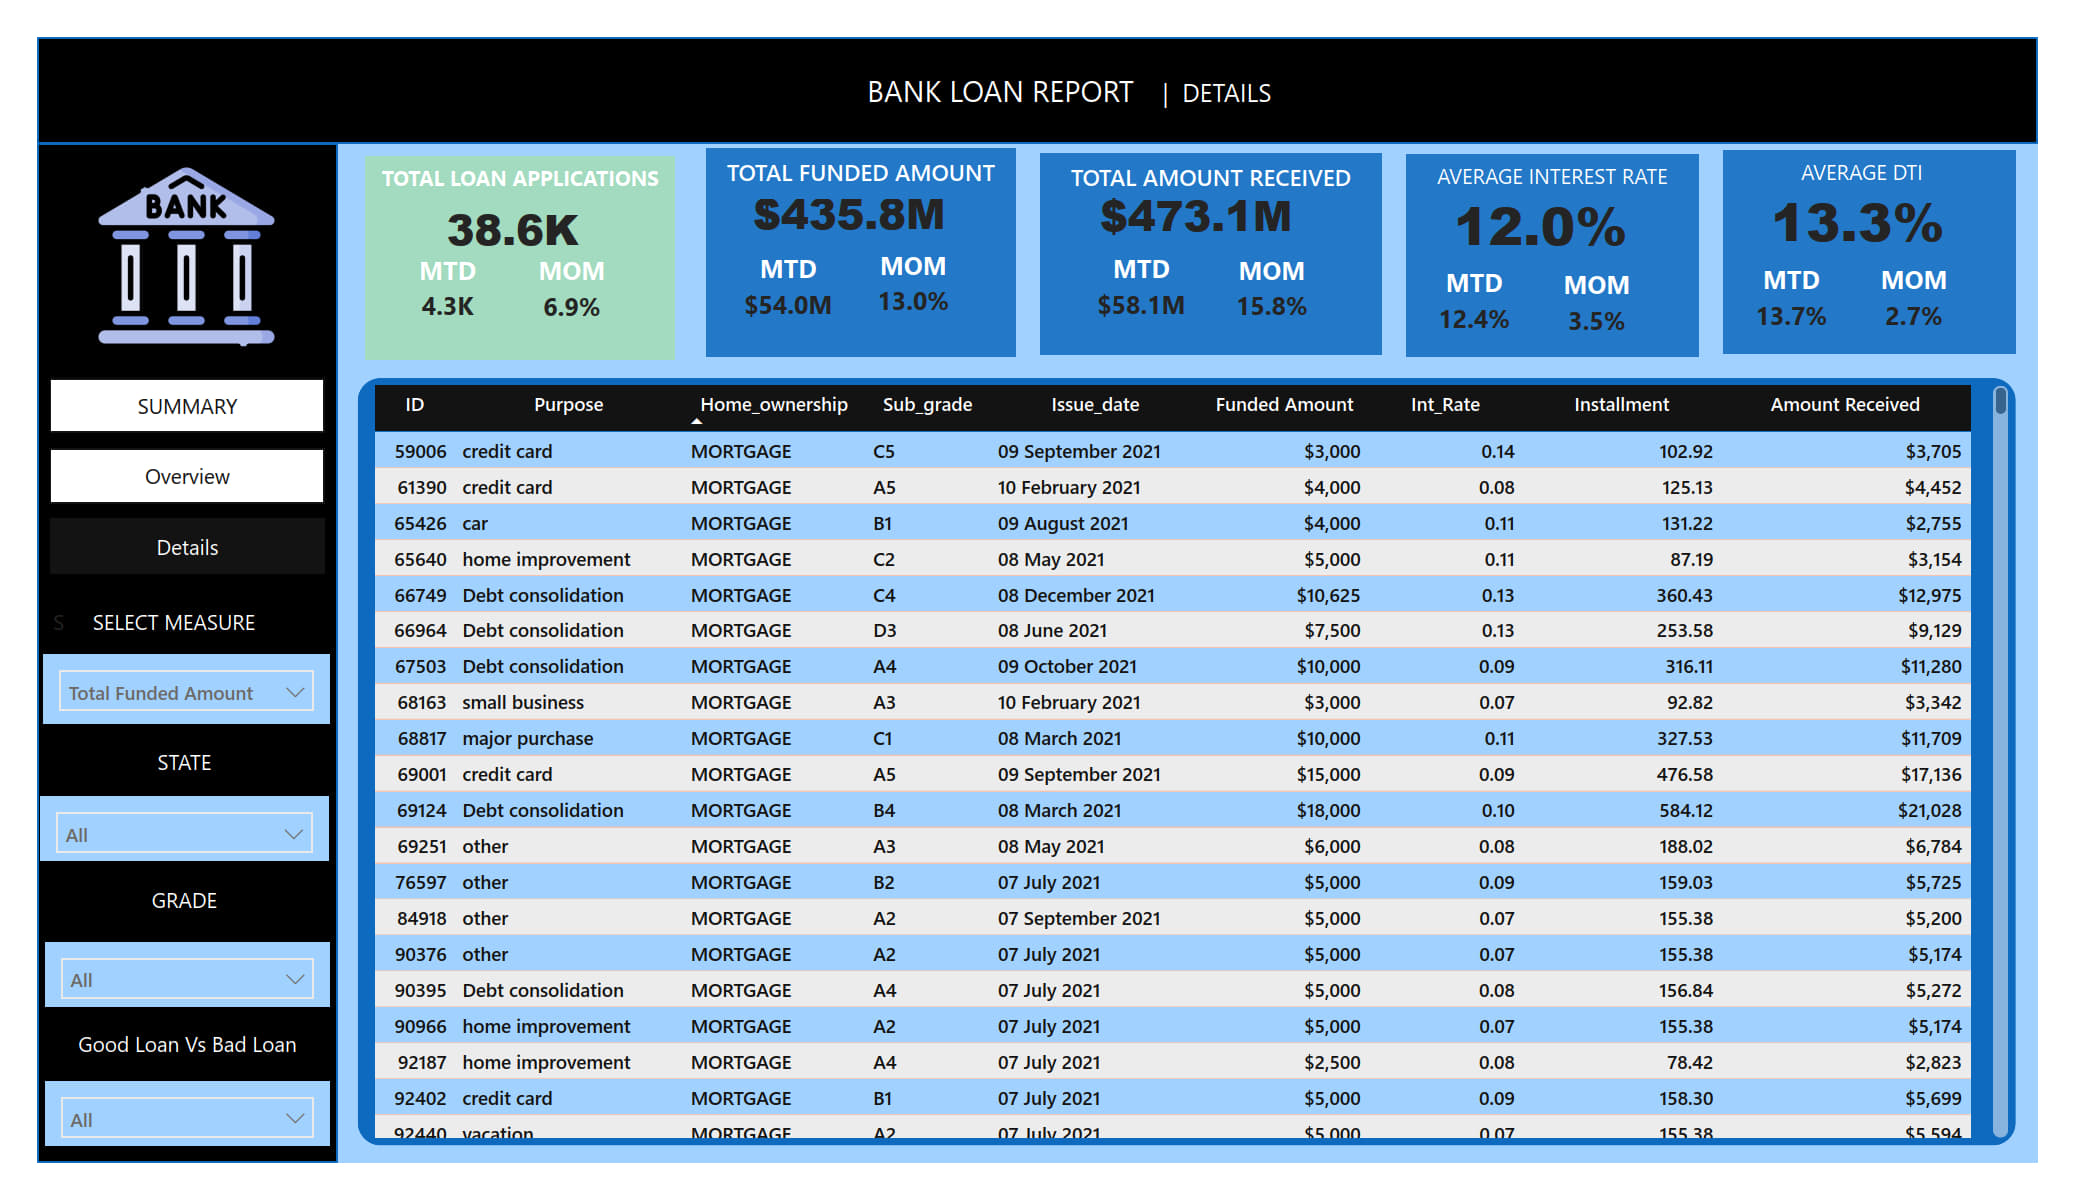

Layout of this report page (visuals, bound fields, positions):
{"tool":"powerbi","page":{"name":"Details","canvas":[1280,720],"ordinal":2},"visuals":[{"type":"textbox","title":"Total Funded Amount","box":[428.2,71.2,197.9,132.7],"z":0,"group":"g2"},{"type":"textbox","title":"Total Funded Amount","box":[1078.6,72.4,187,130.3],"z":0,"group":"g5"},{"type":"textbox","title":"Total Funded Amount","box":[641.7,73.6,218.4,129.1],"z":0,"group":"g3"},{"type":"textbox","title":"Total Funded Amount","box":[875.8,74.8,187,129.1],"z":0,"group":"g4"},{"type":"group","id":"g1","title":"Group 1","box":[209.9,76,197.9,130.3],"z":0},{"type":"textbox","box":[209.9,76,197.9,130.3],"z":0,"group":"g1"},{"type":"shape","box":[0,0,1280,67.6],"z":1000},{"type":"card","fields":{"Values":["Bank_Loan.Avg DTI"]},"box":[1087.6,96.8,154.4,42.4],"z":1000,"group":"g5"},{"type":"card","fields":{"Values":["Bank_Loan.Total Amount Received"]},"box":[672.5,98,137.5,32.3],"z":1000,"group":"g3"},{"type":"card","fields":{"Values":["Bank_Loan.Avg Interest rate"]},"box":[884.8,99,154.4,42.1],"z":1000,"group":"g4"},{"type":"card","fields":{"Values":["Bank_Loan.Total Funded Amount"]},"box":[447.1,99.7,144.8,28.7],"z":1000,"group":"g2"},{"type":"shape","box":[0,67.6,191.8,652.7],"z":2000},{"type":"card","title":"MTD","fields":{"Values":["Bank_Loan.MTD Funded Amount"]},"box":[444.7,136.7,72.4,47.8],"z":2000,"group":"g2"},{"type":"card","title":"MTD","fields":{"Values":["Bank_Loan.MTD Total Amount Received"]},"box":[669.9,137,72.4,49.6],"z":2000,"group":"g3"},{"type":"card","title":"MTD","fields":{"Values":["Bank_Loan.MTD Loan Applications"]},"box":[227.7,138.2,69.3,47],"z":2000,"group":"g1"},{"type":"card","title":"MTD","fields":{"Values":["Bank_Loan.MTD Avg DTI"]},"box":[1094.1,144.5,56.6,46.2],"z":2000,"group":"g5"},{"type":"card","title":"MTD","fields":{"Values":["Bank_Loan.MTD Avg Int"]},"box":[891.3,146.2,56.6,45.8],"z":2000,"group":"g4"},{"type":"card","fields":{"Values":["Bank_Loan.Total Loan Applications"]},"box":[235.3,107.4,137.5,32.6],"z":3000},{"type":"card","title":"MOM","fields":{"Values":["Bank_Loan.MOM Funded Amount"]},"box":[524.3,135.5,72.4,47.8],"z":3000,"group":"g2"},{"type":"card","title":"MOM","fields":{"Values":["Bank_Loan.MoM Amount Received"]},"box":[754.5,137.5,70,49.6],"z":3000,"group":"g3"},{"type":"card","title":"MOM","fields":{"Values":["Bank_Loan.MOM Loan Applications"]},"box":[304.6,138.2,74.4,45.8],"z":3000,"group":"g1"},{"type":"card","title":"MOM","fields":{"Values":["Bank_Loan.MOM Avg DTI"]},"box":[1173,144.9,55.6,46.2],"z":3000,"group":"g5"},{"type":"card","title":"MOM","fields":{"Values":["Bank_Loan.MOM Avg Int"]},"box":[970.2,146.6,55.6,45.8],"z":3000,"group":"g4"},{"type":"group","id":"g2","title":"Group 1","box":[428.2,71.2,197.9,132.7],"z":4000},{"type":"group","id":"g3","title":"Group 1","box":[641.7,73.6,218.4,129.1],"z":5000},{"type":"group","id":"g4","title":"Group 1","box":[875.8,74.8,187,129.1],"z":6000},{"type":"group","id":"g5","title":"Group 1","box":[1078.6,72.4,187,130.3],"z":7000},{"type":"slicer","fields":{"Values":["Bank_Loan.address_state"]},"box":[2.4,486.2,183.4,41],"z":8000},{"type":"textbox","box":[4.8,450,178.6,30.2],"z":9000},{"type":"slicer","fields":{"Values":["Bank_Loan.grade"]},"box":[4.8,579.1,182.2,41],"z":10000},{"type":"textbox","box":[4.8,629.8,182.2,30.2],"z":11000},{"type":"textbox","box":[4.8,538.1,178.6,32.6],"z":12000},{"type":"slicer","fields":{"Values":["Bank_Loan.Good Vs Bad Loan"]},"box":[4.8,668.4,182.2,41],"z":13000},{"type":"textbox","box":[480.2,15.7,431.9,35],"z":14000},{"type":"slicer","fields":{"Values":["Select Measure.Select Measure"]},"box":[3.6,394.5,183.4,44.6],"z":15000},{"type":"textbox","box":[4.8,359.5,178.6,30.2],"z":16000},{"type":"shape","box":[205.1,218.4,1060.5,491],"z":17000},{"type":"tableEx","fields":{"Values":["Bank_Loan.id","Bank_Loan.purpose","Bank_Loan.home_ownership","Bank_Loan.sub_grade","Bank_Loan.issue_date","Bank_Loan.Total Funded Amount","Sum(Bank_Loan.int_rate)","Sum(Bank_Loan.installment)","Bank_Loan.Total Amount Received"]},"box":[209.9,218.4,1055.6,491],"z":18000},{"type":"pageNavigator","box":[8.4,218.4,176.1,126.7],"z":19000},{"type":"image","box":[4.8,74.8,179.8,129.1],"z":19001}]}

Visuals, with their boxes on the page's 1280x720 design canvas (x1, y1, x2, y2). These are canvas units, not pixel positions in the 2075x1200 screenshot, which may show the page scaled, cropped or inside an application window:
"Total Funded Amount" textbox: rect(428, 71, 626, 204)
"Total Funded Amount" textbox: rect(1079, 72, 1266, 203)
"Total Funded Amount" textbox: rect(642, 74, 860, 203)
"Total Funded Amount" textbox: rect(876, 75, 1063, 204)
"Group 1" group: rect(210, 76, 408, 206)
textbox: rect(210, 76, 408, 206)
shape: rect(0, 0, 1280, 68)
card - Bank_Loan.Avg DTI: rect(1088, 97, 1242, 139)
card - Bank_Loan.Total Amount Received: rect(672, 98, 810, 130)
card - Bank_Loan.Avg Interest rate: rect(885, 99, 1039, 141)
card - Bank_Loan.Total Funded Amount: rect(447, 100, 592, 128)
shape: rect(0, 68, 192, 720)
"MTD" card: rect(445, 137, 517, 184)
"MTD" card: rect(670, 137, 742, 187)
"MTD" card: rect(228, 138, 297, 185)
"MTD" card: rect(1094, 144, 1151, 191)
"MTD" card: rect(891, 146, 948, 192)
card - Bank_Loan.Total Loan Applications: rect(235, 107, 373, 140)
"MOM" card: rect(524, 136, 597, 183)
"MOM" card: rect(754, 138, 824, 187)
"MOM" card: rect(305, 138, 379, 184)
"MOM" card: rect(1173, 145, 1229, 191)
"MOM" card: rect(970, 147, 1026, 192)
"Group 1" group: rect(428, 71, 626, 204)
"Group 1" group: rect(642, 74, 860, 203)
"Group 1" group: rect(876, 75, 1063, 204)
"Group 1" group: rect(1079, 72, 1266, 203)
slicer - Bank_Loan.address_state: rect(2, 486, 186, 527)
textbox: rect(5, 450, 183, 480)
slicer - Bank_Loan.grade: rect(5, 579, 187, 620)
textbox: rect(5, 630, 187, 660)
textbox: rect(5, 538, 183, 571)
slicer - Bank_Loan.Good Vs Bad Loan: rect(5, 668, 187, 709)
textbox: rect(480, 16, 912, 51)
slicer - Select Measure.Select Measure: rect(4, 394, 187, 439)
textbox: rect(5, 360, 183, 390)
shape: rect(205, 218, 1266, 709)
tableEx - Bank_Loan.id x Bank_Loan.purpose: rect(210, 218, 1266, 709)
pageNavigator: rect(8, 218, 184, 345)
image: rect(5, 75, 185, 204)
